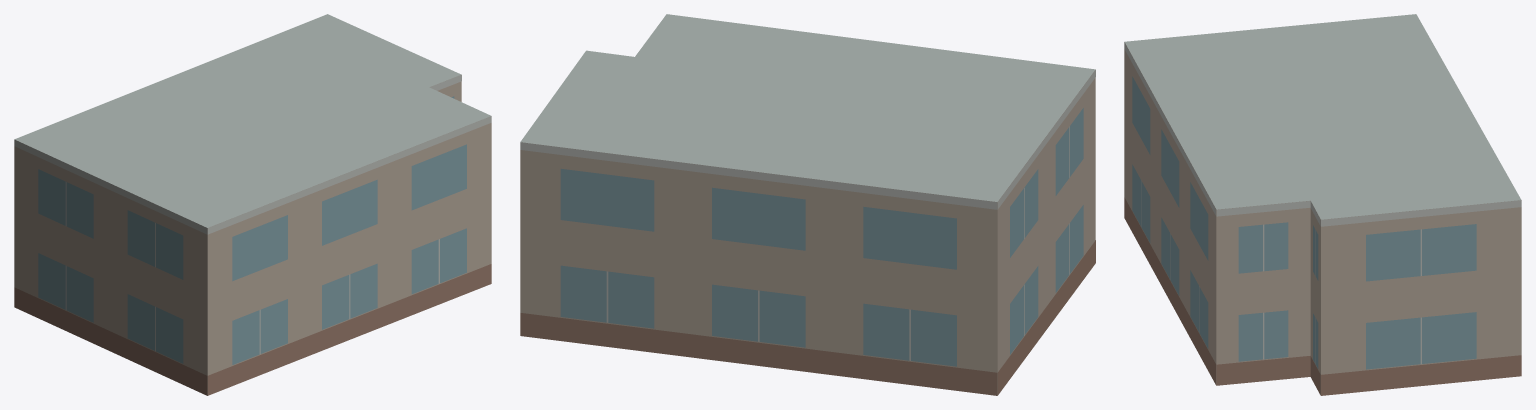
The model's file is survey-upis-32823614.glb.
The picture shows the model from 3 angles, left to right: view 1: azimuth 30°, elevation 25°; view 2: azimuth 150°, elevation 25°; view 3: azimuth 270°, elevation 25°; orthographic projection. The views are drawn at different scales.
Parts seen in each view (by area): view 1: survey-upis-32823614.tmp; view 2: survey-upis-32823614.tmp; view 3: survey-upis-32823614.tmp.
Part boxes in pixels (<box>): survey-upis-32823614.tmp: <box>14,14,491,395</box>; survey-upis-32823614.tmp: <box>520,14,1095,395</box>; survey-upis-32823614.tmp: <box>1124,14,1521,395</box>.
Bounding box in the file's own units: 15.3 × 6.1 × 12.48.
